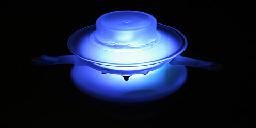LED: (67, 11, 194, 111)
